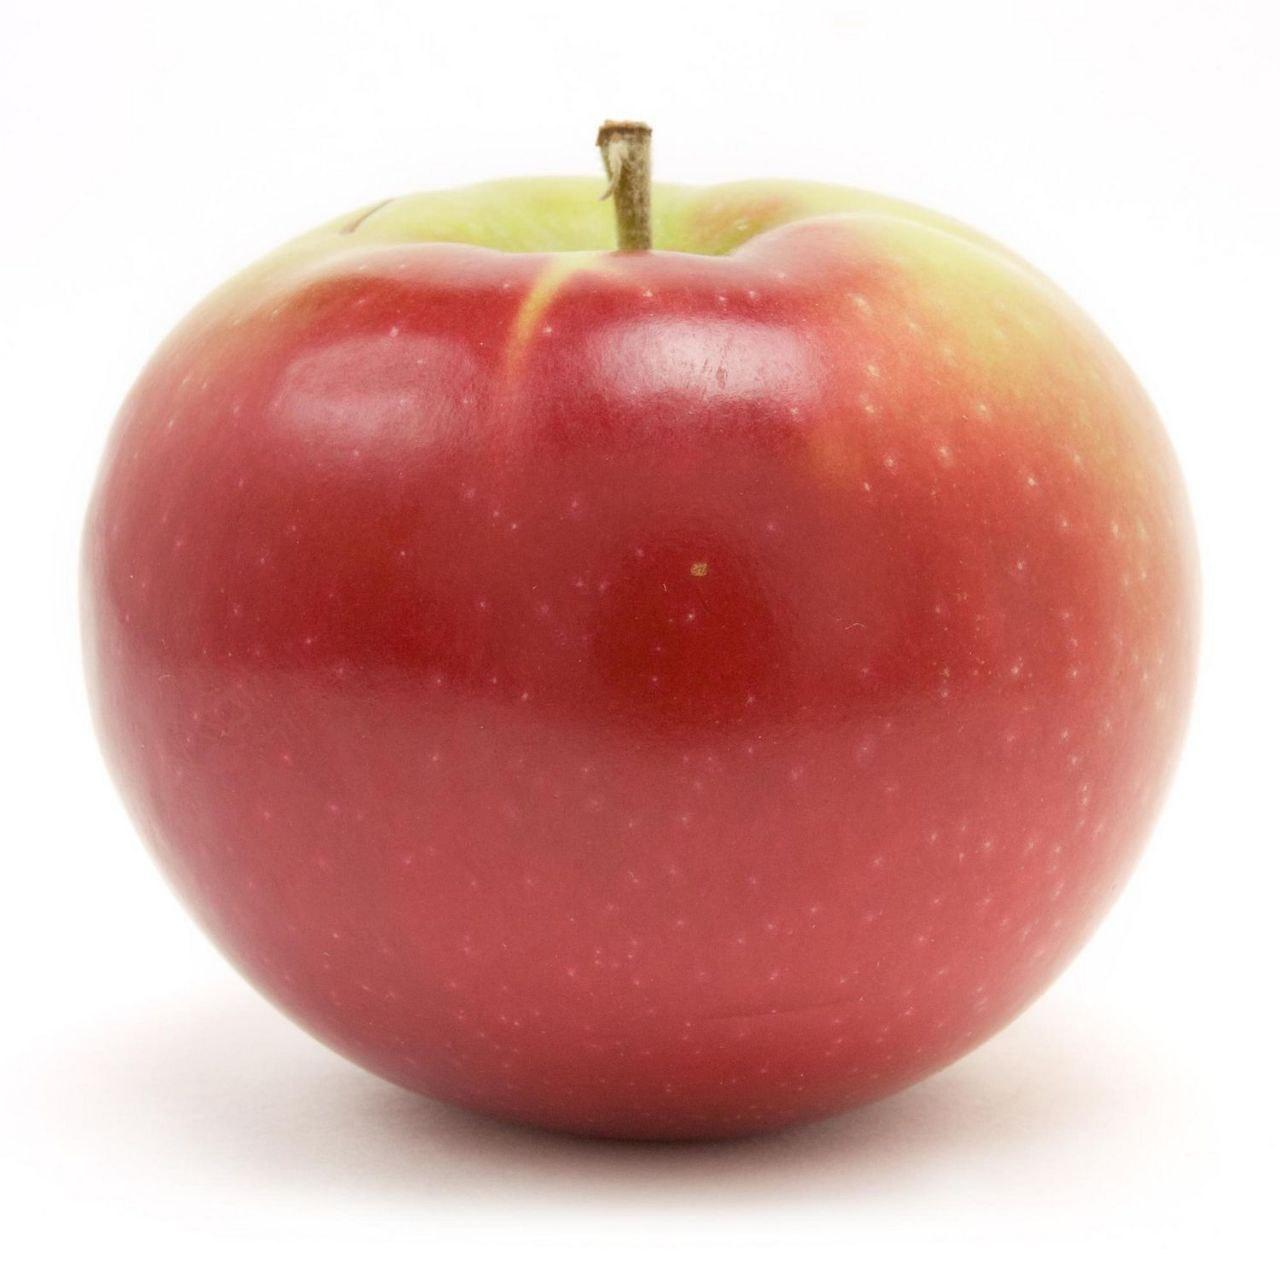Apple: (77, 173, 1200, 1150)
